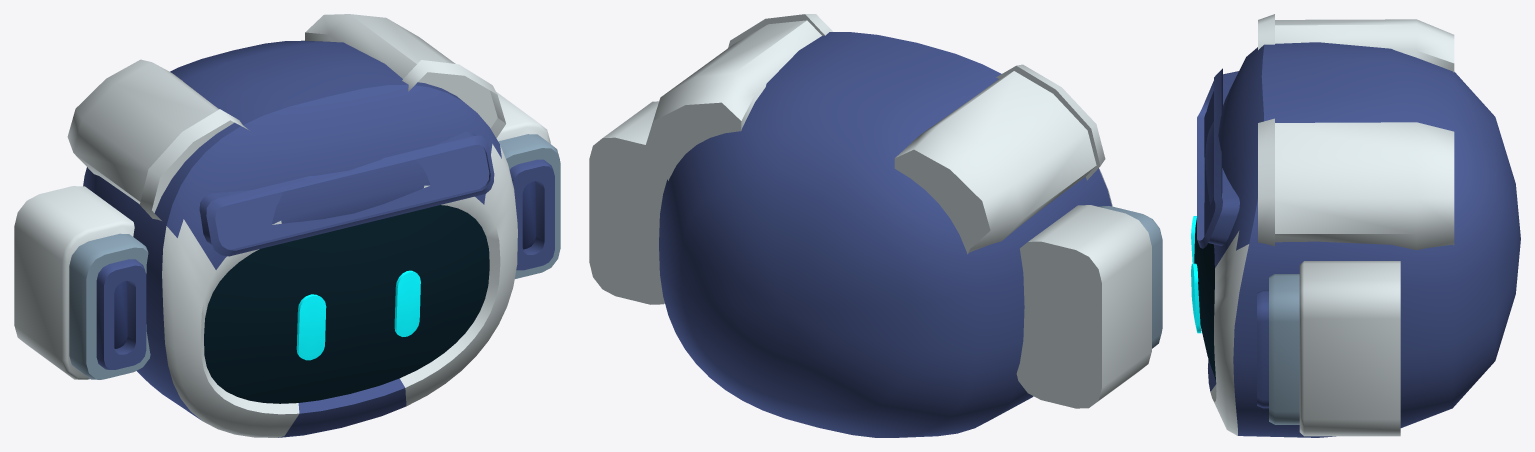
Rendered from copilot_architect_v01.glb.
3 views of the same model, side by side, from view 1: azimuth 30°, elevation 25°; view 2: azimuth 150°, elevation 25°; view 3: azimuth 270°, elevation 25° (orthographic). The views are drawn at different scales.
Parts seen in each view (by area): view 1: architect_model; view 2: architect_model; view 3: architect_model.
Boxes of the visible parts, x1,y1,x2,y2 form: architect_model: [14, 14, 560, 437]; architect_model: [589, 14, 1162, 437]; architect_model: [1191, 14, 1520, 437].
Bounding box in the file's own units: 3.35 × 2.16 × 1.93.
2 materials, 2 textured.
